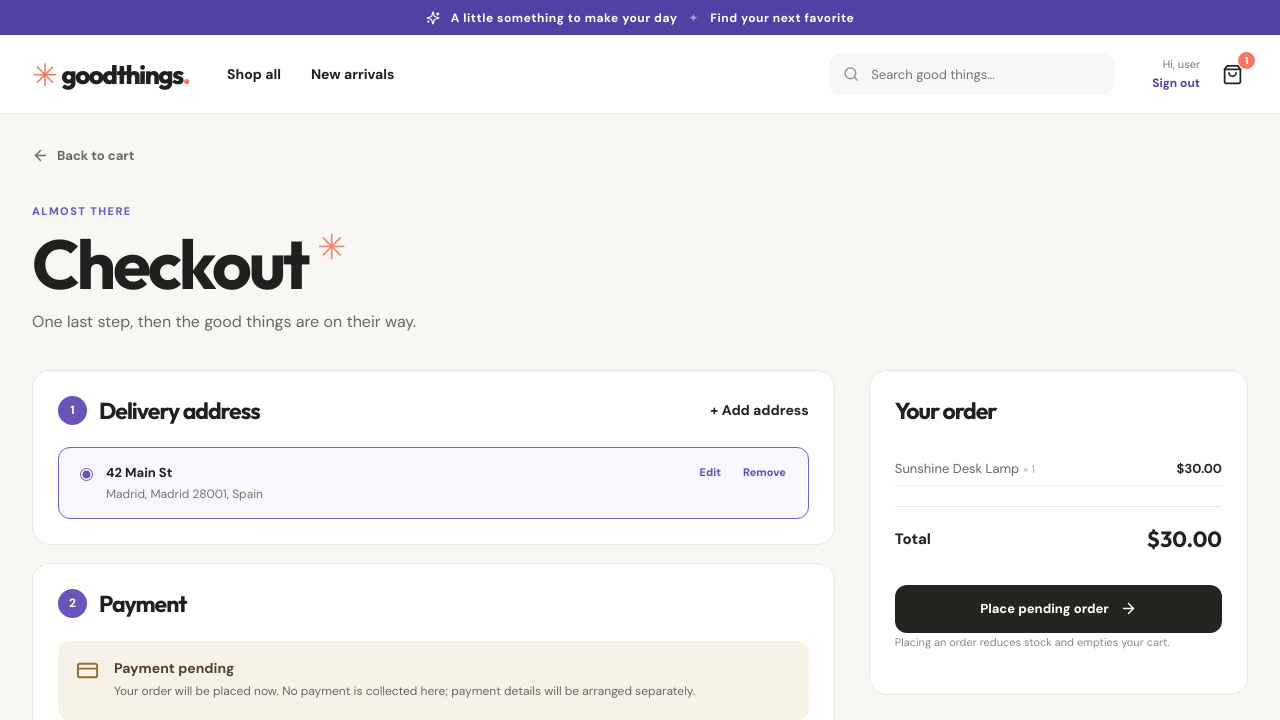
Test: storefront flows › shows a pending order after checkout
Click the button "Place pending order".
click(1058, 609)  # box [895, 585, 1222, 633]
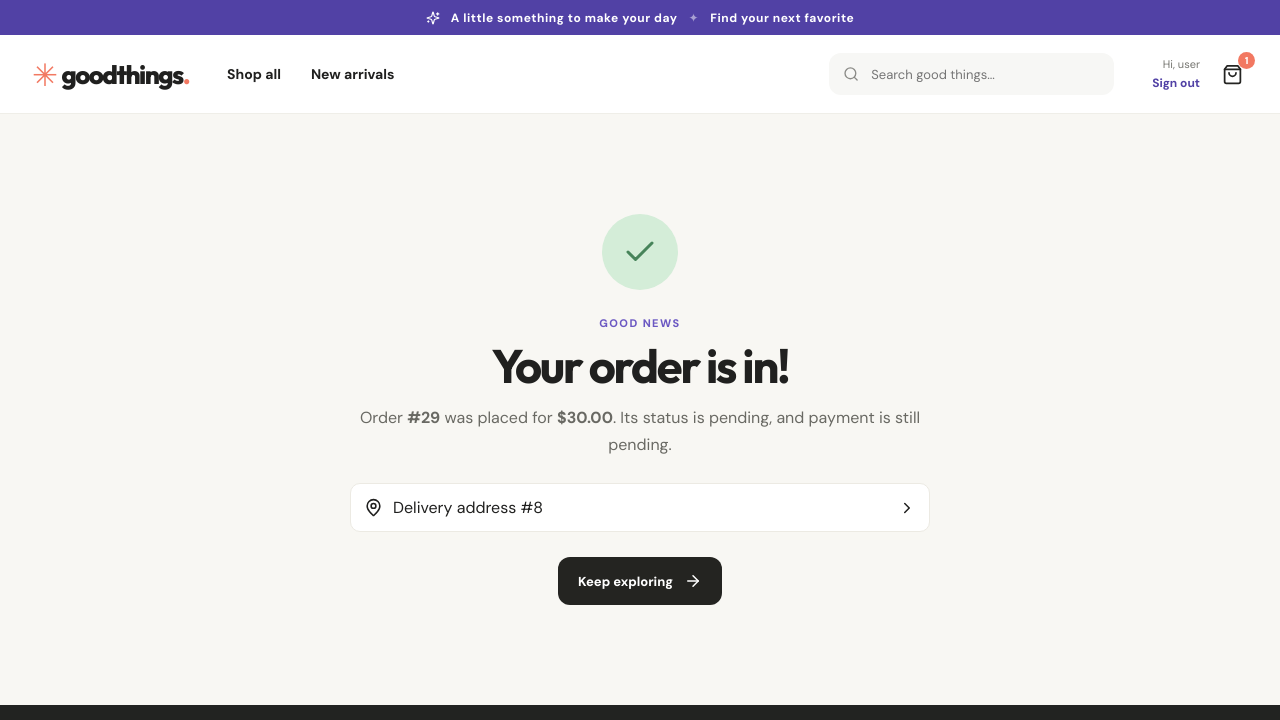
Now the heading "Your order is in!" is shown, box [491, 336, 789, 395]
Now the text "#29" is shown, box [407, 407, 440, 428]
